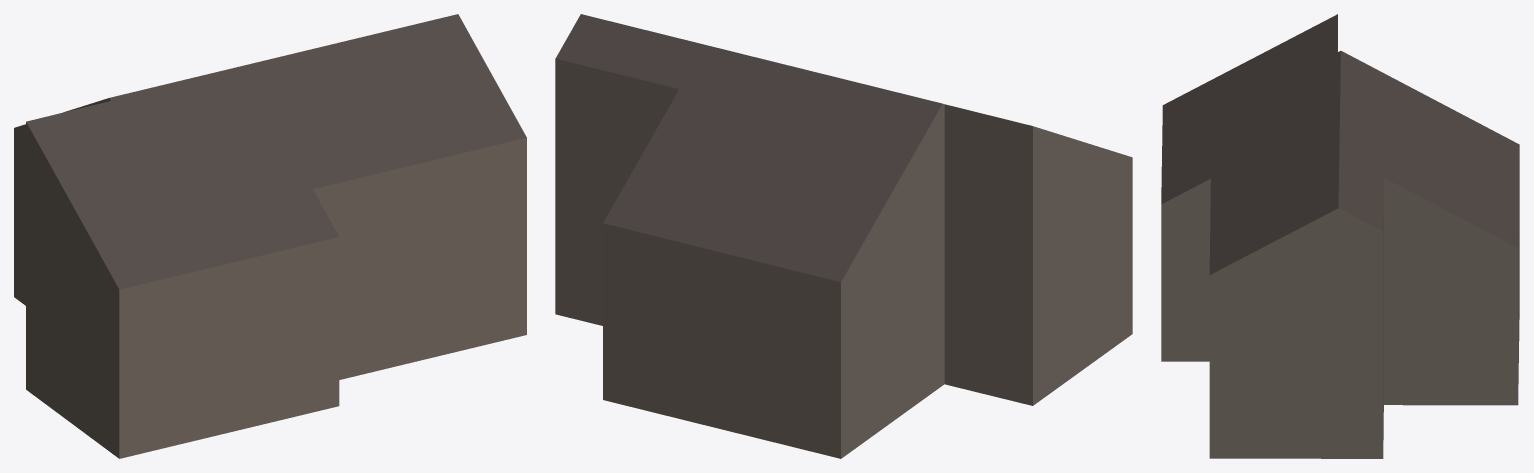
3 renders of one model, left to right at view 1: azimuth 30°, elevation 25°; view 2: azimuth 150°, elevation 25°; view 3: azimuth 270°, elevation 25°, orthographic. The views are drawn at different scales.
Parts seen in each view (by area): view 1: HP-w776801003; view 2: HP-w776801003; view 3: HP-w776801003.
Boxes of the visible parts, left/top/right/bottom form: HP-w776801003: left=14, top=14, right=526, bottom=458; HP-w776801003: left=555, top=14, right=1132, bottom=458; HP-w776801003: left=1161, top=14, right=1519, bottom=458.
Bounding box in the file's own units: 16.09 × 9.57 × 12.41.
